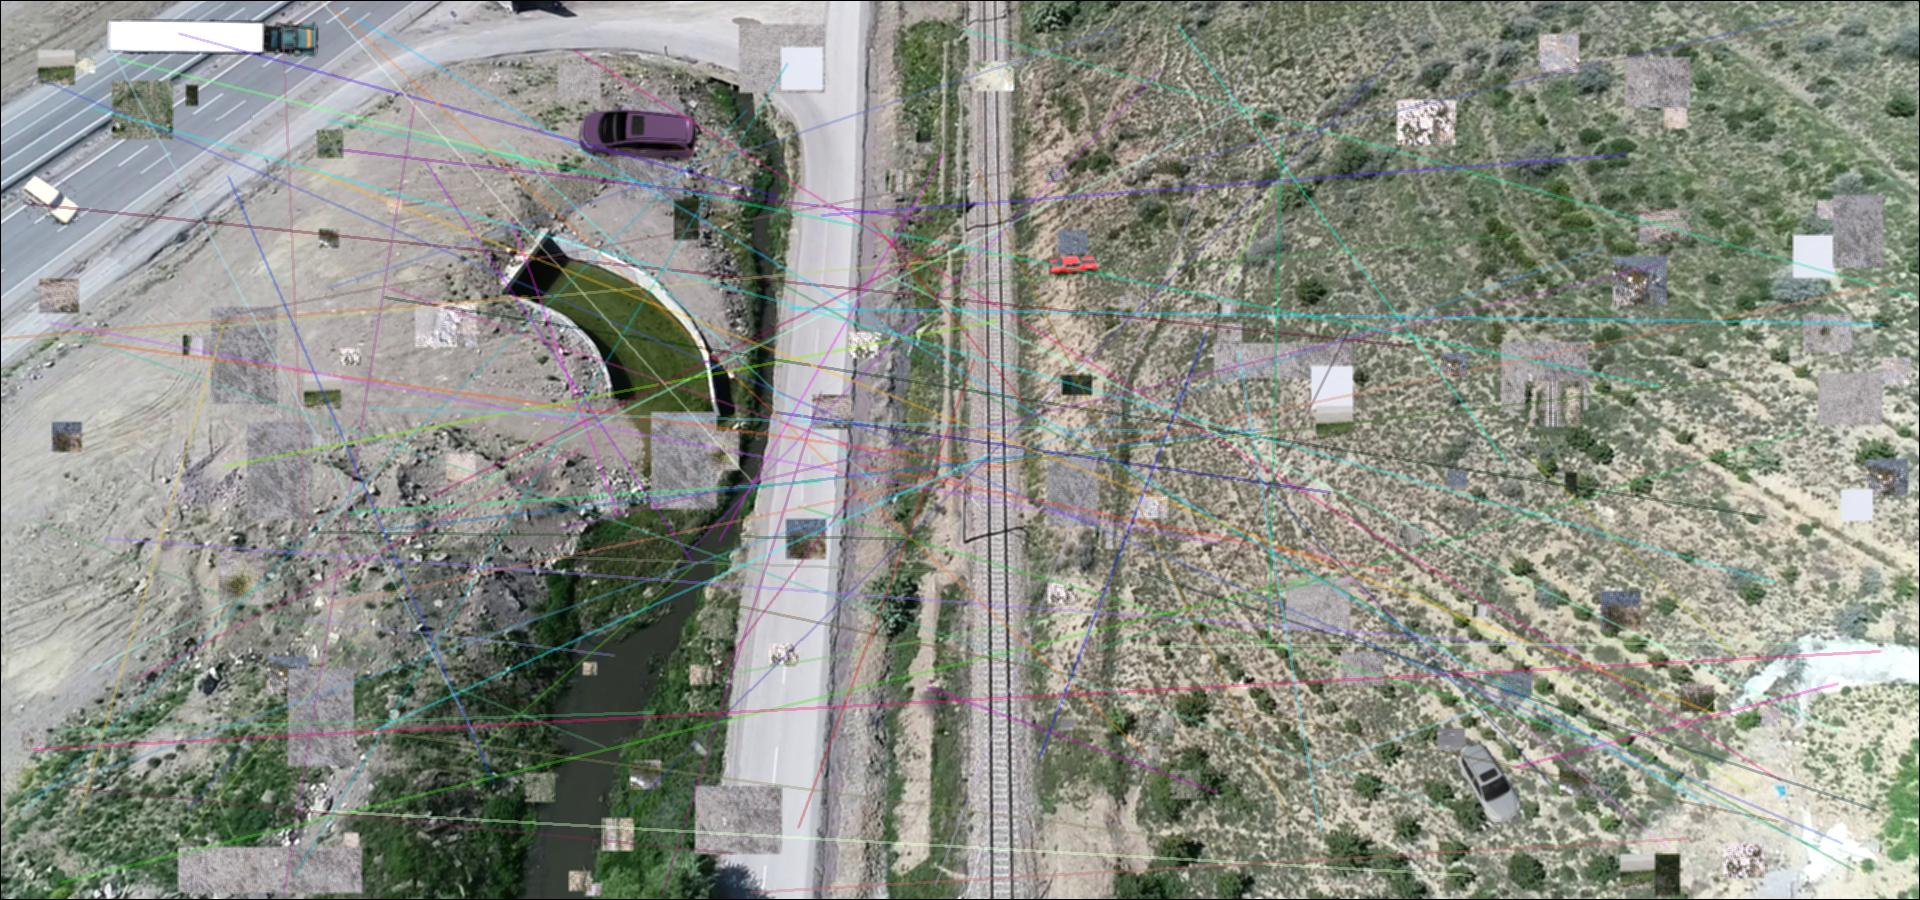arac: (104, 13, 321, 59), (578, 103, 697, 163), (1452, 738, 1526, 824), (20, 176, 80, 225), (1048, 255, 1100, 276)
